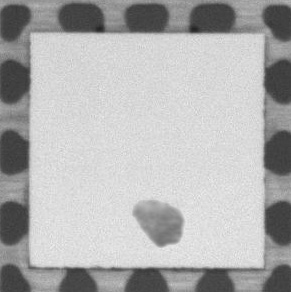DIE_INK: (125, 195, 190, 253)
